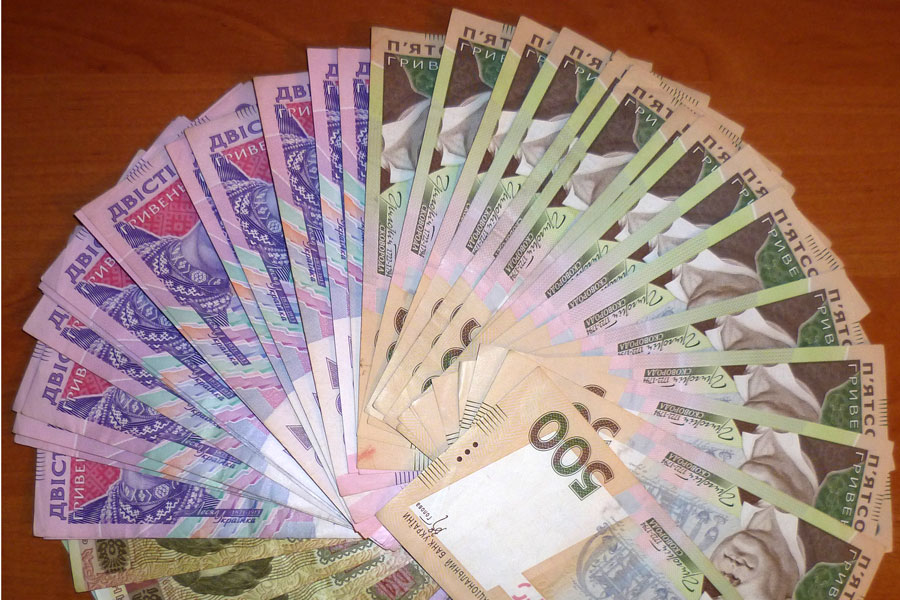bn_100: (148, 550, 359, 600), (69, 539, 226, 593), (320, 557, 412, 600), (386, 568, 434, 600)
bn_200: (74, 178, 361, 415), (37, 247, 358, 444), (21, 298, 361, 477), (186, 116, 374, 362), (20, 373, 395, 495), (167, 140, 327, 378), (260, 75, 363, 329), (37, 500, 415, 541), (341, 60, 367, 312), (315, 60, 341, 312)
bn_500: (377, 169, 641, 412), (365, 370, 652, 557), (365, 370, 652, 557), (585, 417, 885, 556), (546, 164, 782, 318), (564, 190, 809, 333), (585, 227, 833, 360), (379, 128, 511, 344), (444, 116, 595, 285), (628, 290, 872, 393), (648, 387, 891, 488), (425, 114, 550, 282), (539, 114, 704, 237), (655, 350, 886, 427), (655, 350, 886, 427), (572, 137, 717, 231), (368, 121, 430, 281)
